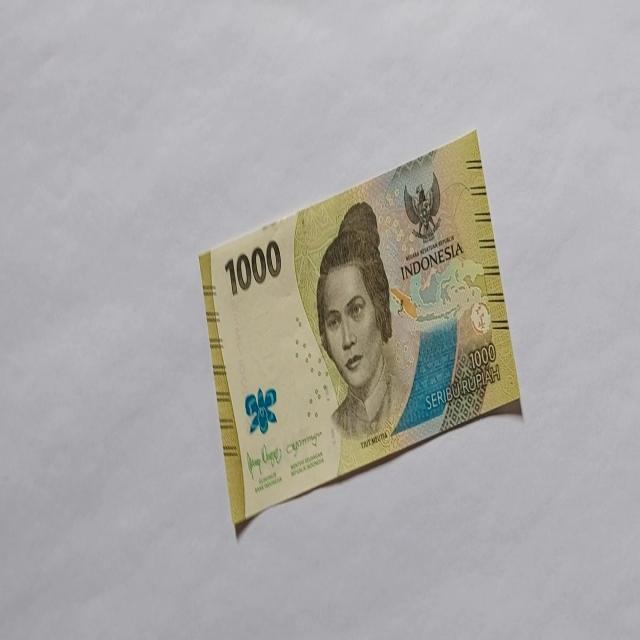seribu rupiah kertas: (198, 128, 522, 531)
